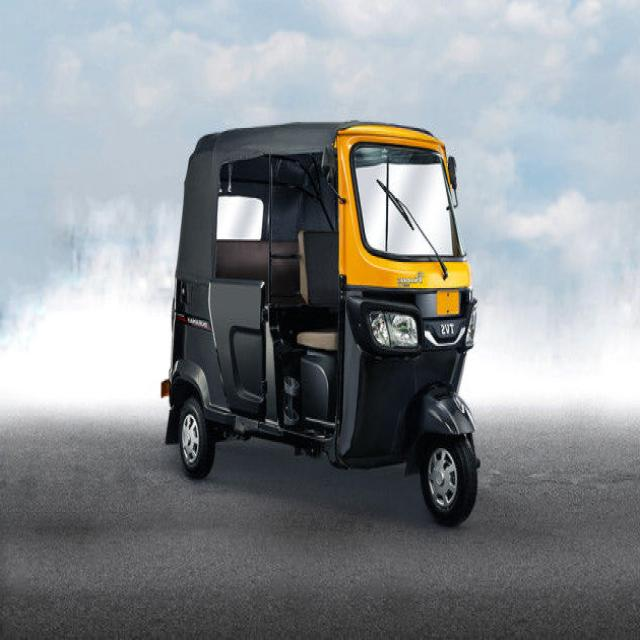autorickshaw: (164, 122, 479, 524)
